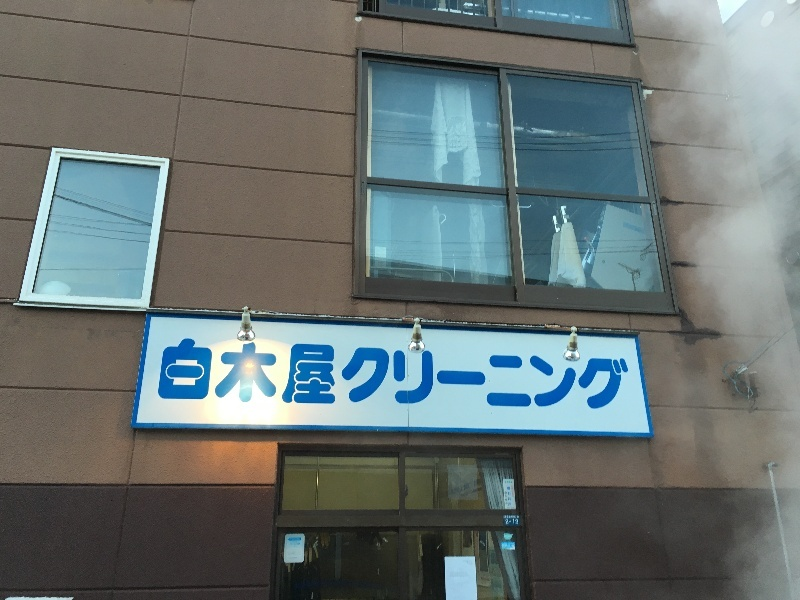text: (161, 339, 176, 416), (177, 339, 192, 416), (193, 339, 208, 416), (209, 339, 224, 416), (225, 339, 240, 416), (241, 339, 256, 416), (257, 339, 272, 416), (273, 339, 288, 416), (289, 339, 304, 416), (305, 339, 320, 416), (321, 339, 336, 416), (337, 339, 352, 416), (353, 339, 368, 416), (369, 339, 384, 416), (385, 339, 400, 416), (401, 339, 416, 416), (417, 339, 432, 416), (433, 339, 448, 416), (449, 339, 464, 416), (465, 339, 480, 416), (481, 339, 496, 416), (497, 339, 512, 416), (513, 339, 528, 416), (529, 339, 544, 416), (545, 339, 560, 416), (561, 339, 576, 416), (577, 339, 592, 416), (593, 339, 608, 416), (609, 339, 624, 416), (625, 339, 629, 416), (504, 491, 512, 505), (507, 487, 512, 507), (289, 538, 304, 542), (290, 542, 304, 545), (505, 519, 512, 525), (513, 519, 519, 525), (289, 557, 304, 559), (504, 481, 512, 484), (505, 516, 512, 519), (289, 552, 295, 555), (513, 516, 519, 519)
